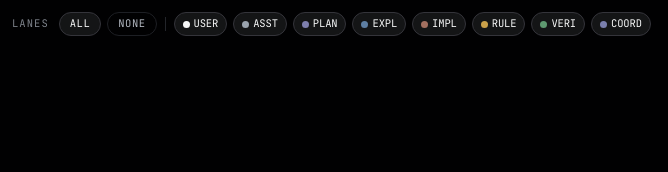
Scenario: LaneFilter › 모두 숨긴 뒤에는 All로 되돌린다
This screenshot has width=668, height=172.
Step 1. Click the button "None" → (132, 24), box top-left (107, 12), bottom-right (156, 36)
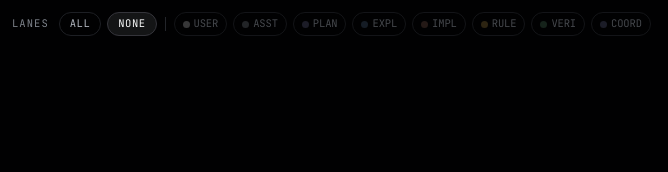
Result: the button "None" is disabled at top-left (107, 12), bottom-right (156, 36)
Step 2. Click the button "All" → (80, 24), box top-left (59, 12), bottom-right (101, 36)
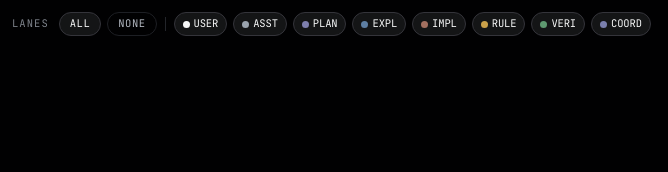
Result: the button "None" is enabled at top-left (107, 12), bottom-right (156, 36)
